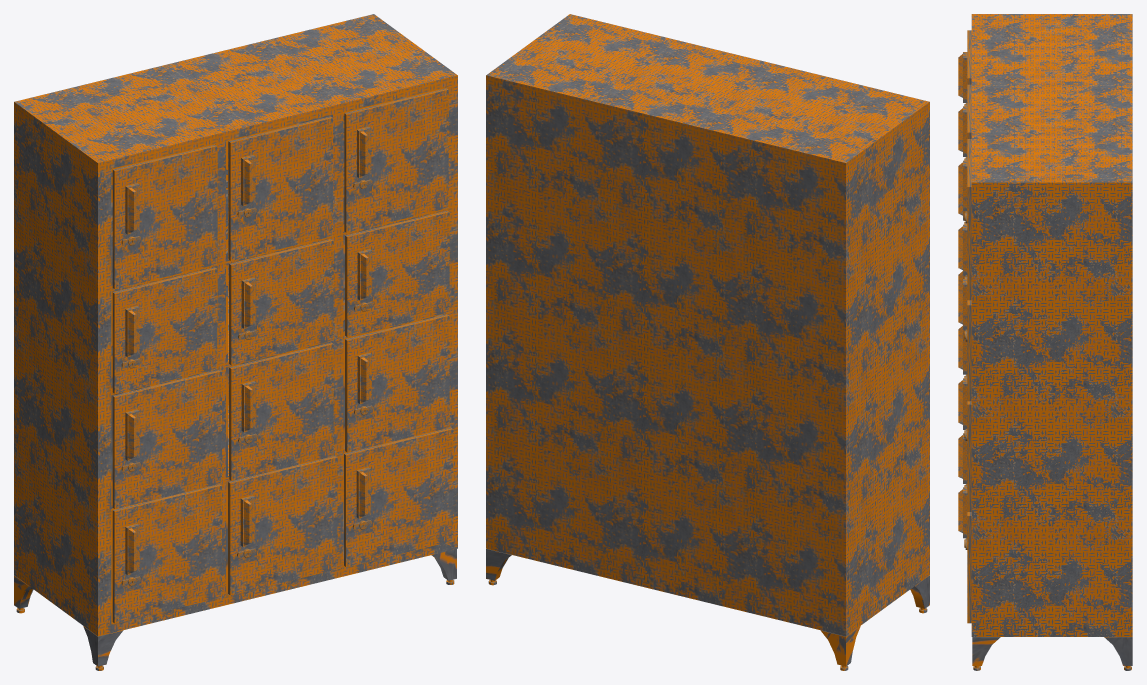
The model's file is Casillero.fbx.
3 views of the same model, side by side, from view 1: azimuth 30°, elevation 25°; view 2: azimuth 150°, elevation 25°; view 3: azimuth 270°, elevation 25° (orthographic). The views are drawn at different scales.
Parts seen in each view (by area): view 1: Casilleros009, PuertasCasillero109, PuertasCasillero110, PuertasCasillero060, PuertasCasillero120, PuertasCasillero115, PuertasCasillero119, PuertasCasillero118, PuertasCasillero117, PuertasCasillero116, PuertasCasillero114, PuertasCasillero113 (+1 smaller); view 2: Casilleros009; view 3: Casilleros009, PuertasCasillero060, PuertasCasillero118, PuertasCasillero117, PuertasCasillero112, PuertasCasillero109, PuertasCasillero110, PuertasCasillero113, PuertasCasillero119, PuertasCasillero116.
Boxes of the visible parts, x1=… form: Casilleros009: x1=14, y1=14, x2=457, y2=670; PuertasCasillero109: x1=112, y1=144, x2=217, y2=289; PuertasCasillero110: x1=228, y1=116, x2=332, y2=260; PuertasCasillero060: x1=344, y1=88, x2=448, y2=232; PuertasCasillero120: x1=112, y1=484, x2=221, y2=623; PuertasCasillero115: x1=112, y1=369, x2=221, y2=509; PuertasCasillero119: x1=228, y1=456, x2=337, y2=595; PuertasCasillero118: x1=344, y1=427, x2=453, y2=566; PuertasCasillero117: x1=345, y1=314, x2=449, y2=452; PuertasCasillero116: x1=229, y1=342, x2=333, y2=480; PuertasCasillero114: x1=112, y1=267, x2=217, y2=393; PuertasCasillero113: x1=229, y1=239, x2=333, y2=365; Casilleros009: x1=486, y1=14, x2=929, y2=670; Casilleros009: x1=971, y1=14, x2=1132, y2=670; PuertasCasillero060: x1=958, y1=139, x2=971, y2=300; PuertasCasillero118: x1=958, y1=487, x2=971, y2=623; PuertasCasillero117: x1=958, y1=378, x2=971, y2=511; PuertasCasillero112: x1=958, y1=279, x2=971, y2=401; PuertasCasillero109: x1=958, y1=30, x2=971, y2=106; PuertasCasillero110: x1=958, y1=84, x2=971, y2=160; PuertasCasillero113: x1=958, y1=224, x2=967, y2=278; PuertasCasillero119: x1=958, y1=433, x2=967, y2=487; PuertasCasillero116: x1=958, y1=326, x2=967, y2=378.
Bounding box in the file's own units: 248 × 335 × 108.
